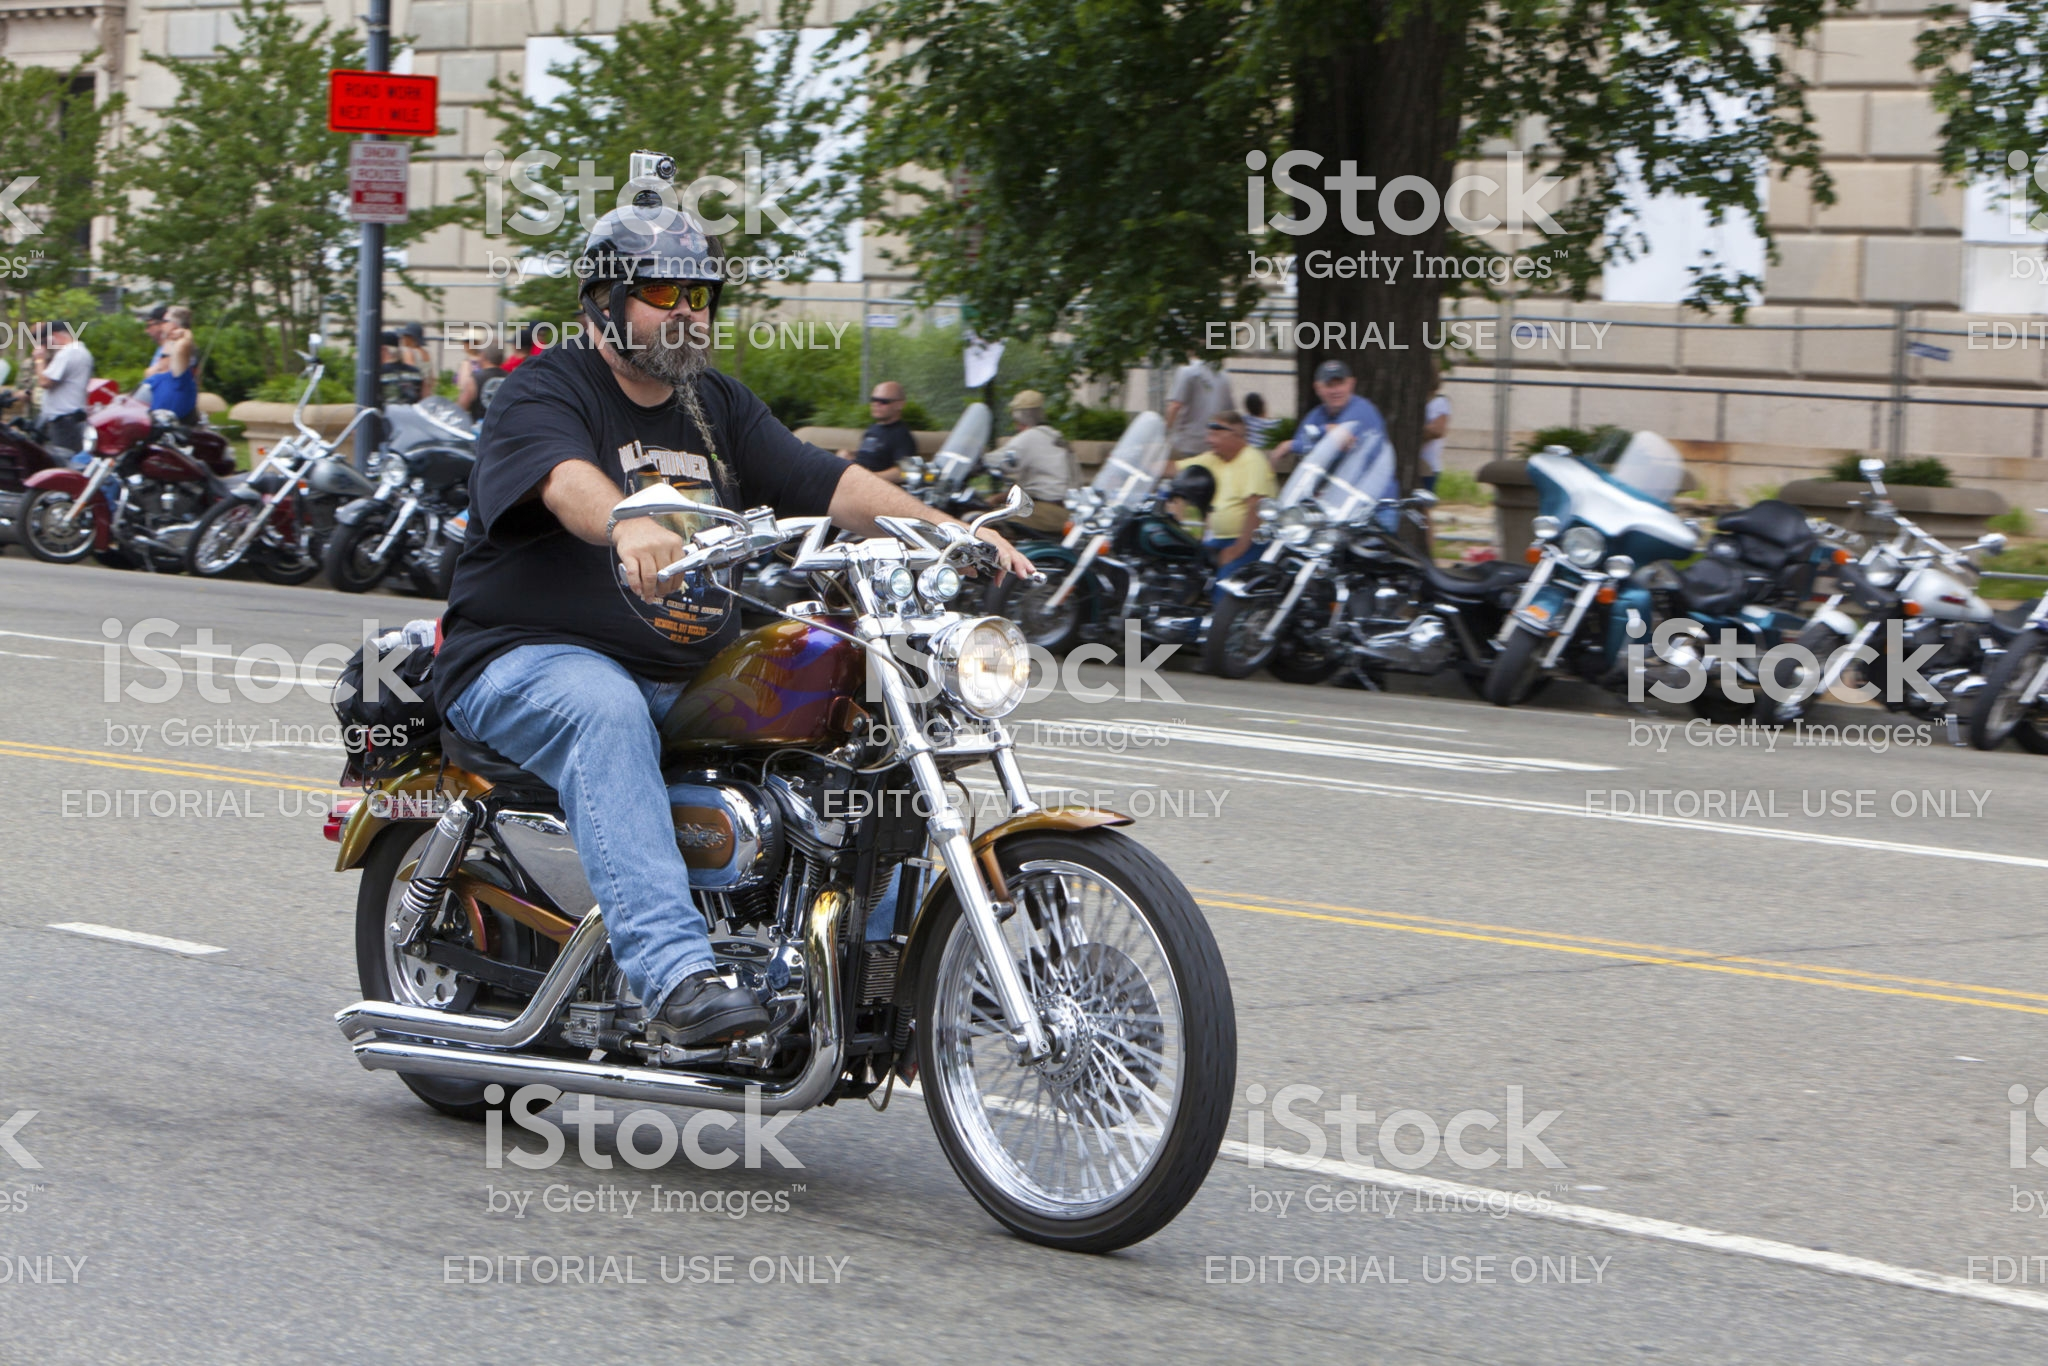helmet: (584, 194, 718, 325)
